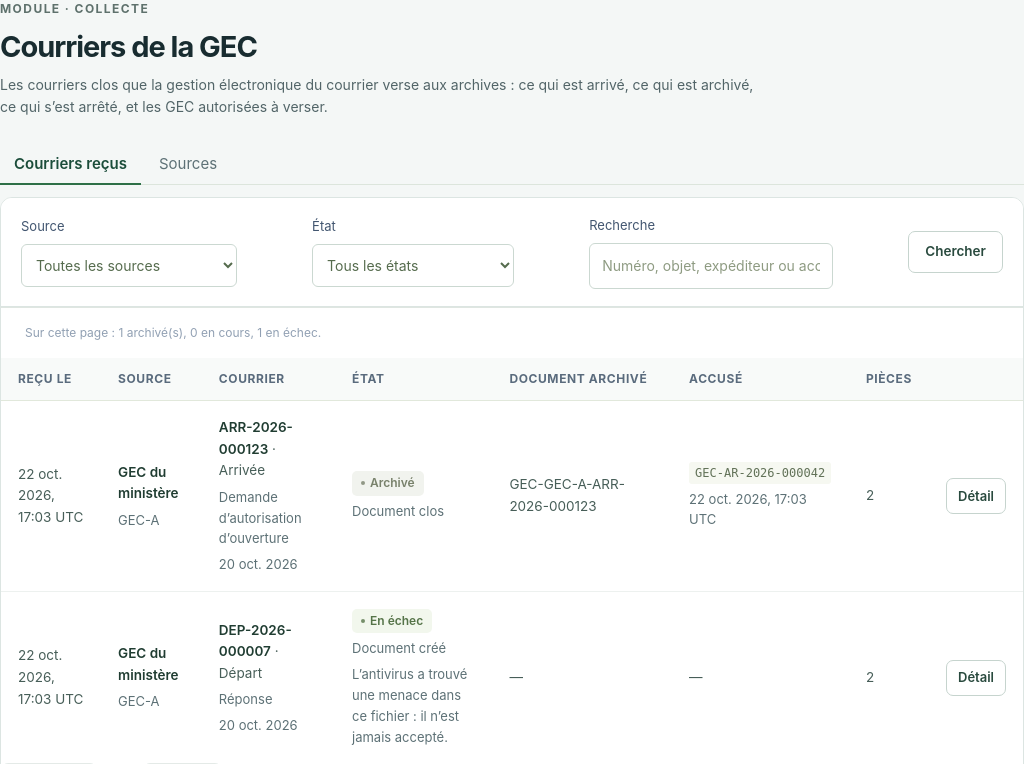
Test: le détail d’un courrier en échec dit où il s’est arrêté et ce qu’il faut faire
The width and height of the screenshot is (1024, 764).
What coordinates should you click on to do the following:
click the button with aria-label "Voir le détail du courrier DEP-2026-000007"
I would click on:
 (976, 678)
Its box is [946,660,1006,696].
(page scrolled)
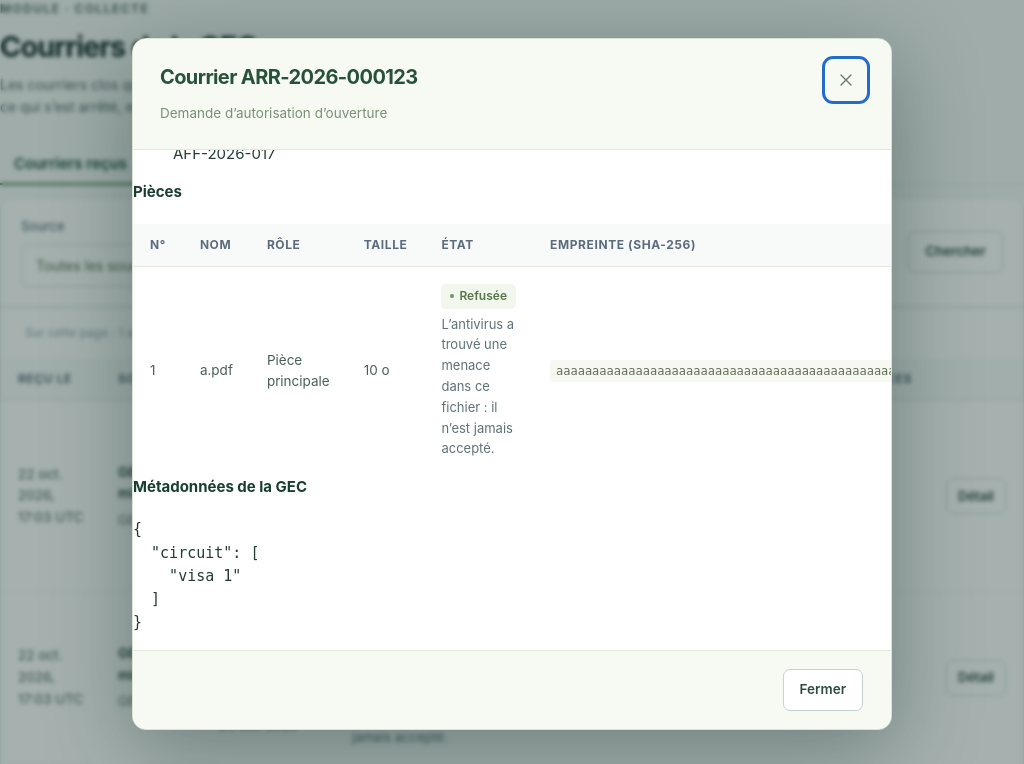
expect the text "Refusée" is shown: met, box [441,284,516,309]
expect the text "L’antivirus a trouvé une menace" is shown: met, box [441,316,514,456]
